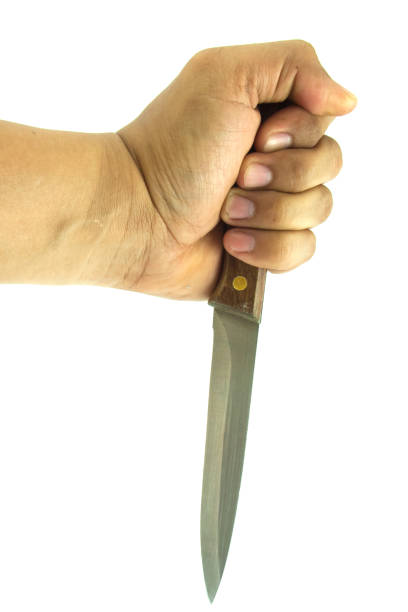knife: (198, 100, 294, 604)
